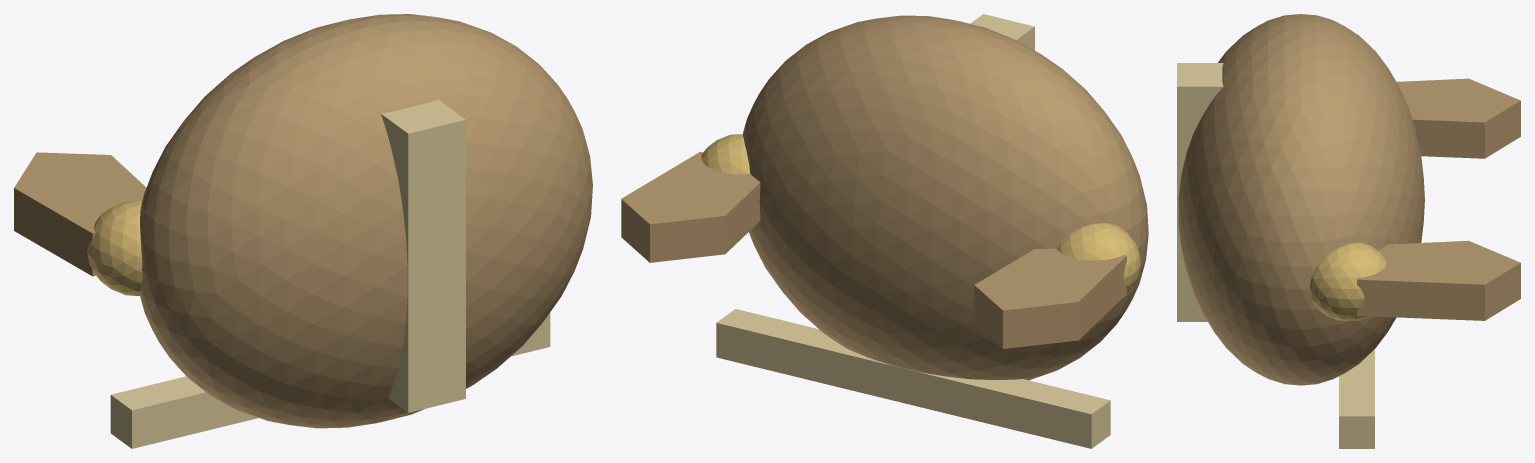
The model's file is captain_helmet_gold_ridge.glb.
3 views of the same model, side by side, from view 1: azimuth 30°, elevation 25°; view 2: azimuth 150°, elevation 25°; view 3: azimuth 270°, elevation 25° (orthographic). The views are drawn at different scales.
Parts seen in each view (by area): view 1: bronze_dome, raised_gold_ridge, cheek_guard, gold_brow_band, ear_disc; view 2: bronze_dome, cheek_guard (×2), gold_brow_band, ear_disc (×2), raised_gold_ridge; view 3: bronze_dome, cheek_guard (×2), raised_gold_ridge, ear_disc, gold_brow_band.
Boxes of the visible parts, <box> form: bronze_dome: <box>140,14,592,428</box>; raised_gold_ridge: <box>381,99,465,412</box>; cheek_guard: <box>14,152,146,276</box>; gold_brow_band: <box>110,312,550,448</box>; ear_disc: <box>87,200,142,295</box>; bronze_dome: <box>743,15,1148,380</box>; cheek_guard (×2): <box>621,151,1126,348</box>; gold_brow_band: <box>716,309,1110,448</box>; ear_disc (×2): <box>701,134,1140,292</box>; raised_gold_ridge: <box>970,14,1034,50</box>; bronze_dome: <box>1178,14,1424,385</box>; cheek_guard (×2): <box>1357,78,1520,320</box>; raised_gold_ridge: <box>1177,63,1223,321</box>; ear_disc: <box>1310,242,1386,321</box>; gold_brow_band: <box>1339,349,1374,448</box>.
Bounding box in the file's own units: 1.22 × 0.9 × 0.86.
